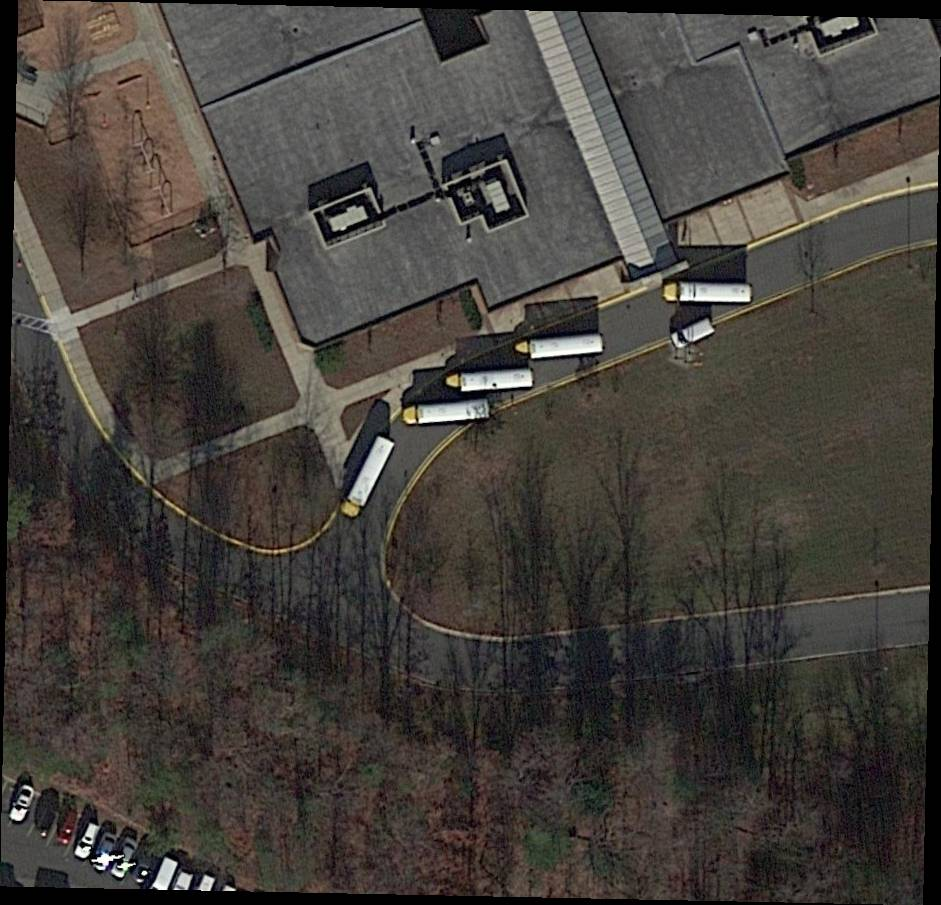large vehicle: (341, 436, 395, 519), (517, 335, 604, 361), (404, 400, 491, 425), (448, 370, 533, 394), (664, 282, 753, 304)
small vehicle: (667, 314, 719, 353), (5, 781, 39, 827), (71, 817, 104, 863), (108, 834, 140, 880), (130, 842, 161, 886), (90, 829, 120, 874), (30, 800, 62, 841), (53, 810, 81, 847)
